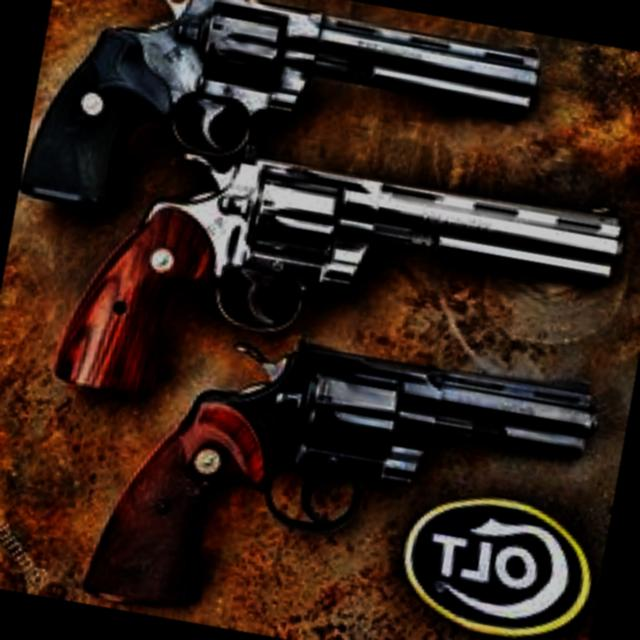revolver: (0, 0, 640, 487), (12, 0, 582, 338), (202, 262, 242, 418)
